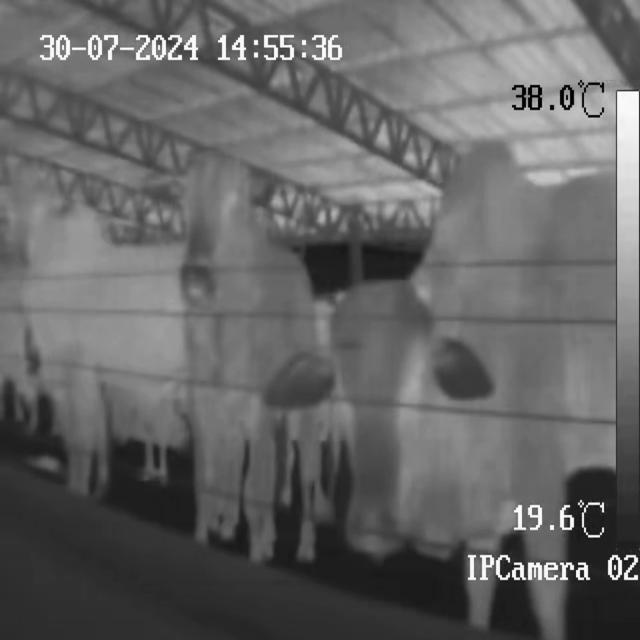eye: (393, 362, 423, 416), (218, 184, 244, 226)
head: (322, 277, 440, 555), (176, 148, 252, 313)
